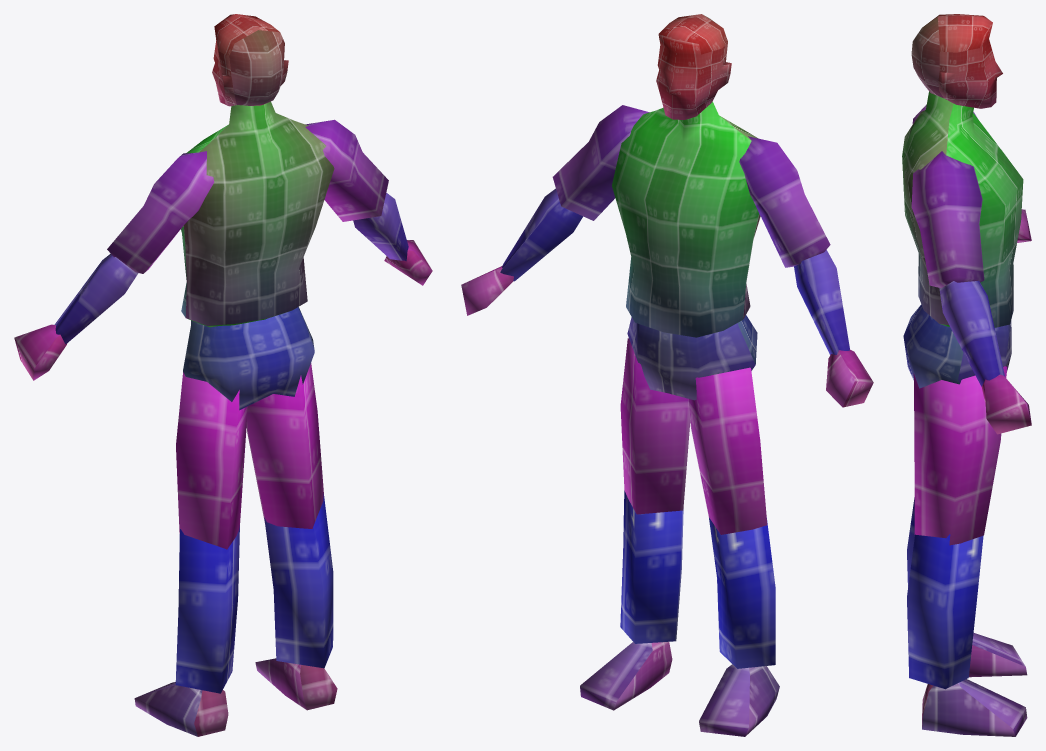
The model's file is basemesh.obj.
3 views of the same model, side by side, from view 1: azimuth 30°, elevation 25°; view 2: azimuth 150°, elevation 25°; view 3: azimuth 270°, elevation 25° (orthographic).
Parts seen in each view (by area): view 1: body_Cube.001, leg.hi.l_Cube.001, leg.hi.r_Cube.001, hips_Cube.001, leg.lo.l_Cube.001, leg.lo.r_Cube.001, arm.hi.l_Cube.002, head_Cube.001, arm.hi.r_Cube.001, foot.l_Cube.001, arm.lo.l_Cube.001, foot.r_Cube.001 (+3 smaller); view 2: body_Cube.001, leg.hi.l_Cube.001, leg.hi.r_Cube.001, leg.lo.l_Cube.001, leg.lo.r_Cube.001, hips_Cube.001, arm.hi.l_Cube.002, head_Cube.001, arm.hi.r_Cube.001, foot.l_Cube.001, foot.r_Cube.001, arm.lo.l_Cube.001 (+3 smaller); view 3: body_Cube.001, leg.hi.r_Cube.001, leg.lo.r_Cube.001, arm.hi.r_Cube.001, head_Cube.001, foot.r_Cube.001, hips_Cube.001, arm.lo.r_Cube.001, hand.r_Cube.001, foot.l_Cube.001, leg.lo.l_Cube.001, hand.l_Cube.001.
Boxes of the visible parts, x1,y1,x2,y2 form: body_Cube.001: [181, 101, 334, 327]; leg.hi.l_Cube.001: [176, 372, 247, 549]; leg.hi.r_Cube.001: [246, 363, 323, 528]; hips_Cube.001: [183, 307, 314, 410]; leg.lo.l_Cube.001: [175, 525, 239, 693]; leg.lo.r_Cube.001: [264, 494, 333, 668]; arm.hi.l_Cube.002: [107, 151, 214, 273]; head_Cube.001: [212, 14, 288, 106]; arm.hi.r_Cube.001: [305, 119, 388, 221]; foot.l_Cube.001: [134, 682, 228, 736]; arm.lo.l_Cube.001: [54, 253, 138, 344]; foot.r_Cube.001: [255, 658, 337, 710]; body_Cube.001: [612, 101, 760, 337]; leg.hi.l_Cube.001: [688, 367, 767, 534]; leg.hi.r_Cube.001: [620, 338, 690, 514]; leg.lo.l_Cube.001: [709, 517, 775, 668]; leg.lo.r_Cube.001: [620, 490, 683, 643]; hips_Cube.001: [627, 315, 757, 400]; arm.hi.l_Cube.002: [739, 136, 830, 267]; head_Cube.001: [656, 14, 731, 119]; arm.hi.r_Cube.001: [552, 105, 649, 220]; foot.l_Cube.001: [699, 664, 779, 736]; foot.r_Cube.001: [580, 641, 672, 710]; arm.lo.l_Cube.001: [794, 250, 849, 354]; body_Cube.001: [902, 91, 1023, 327]; leg.hi.r_Cube.001: [913, 366, 1007, 545]; leg.lo.r_Cube.001: [907, 534, 983, 689]; arm.hi.r_Cube.001: [911, 151, 984, 287]; head_Cube.001: [911, 14, 1002, 108]; foot.r_Cube.001: [922, 679, 1027, 736]; hips_Cube.001: [903, 304, 1011, 388]; arm.lo.r_Cube.001: [939, 280, 1004, 386]; hand.r_Cube.001: [981, 374, 1031, 434]; foot.l_Cube.001: [969, 633, 1027, 677]; leg.lo.l_Cube.001: [907, 497, 914, 587]; hand.l_Cube.001: [1017, 209, 1031, 242].
Bounding box in the file's own units: 1.7 × 2.79 × 0.4833.
1 material, 1 textured.
